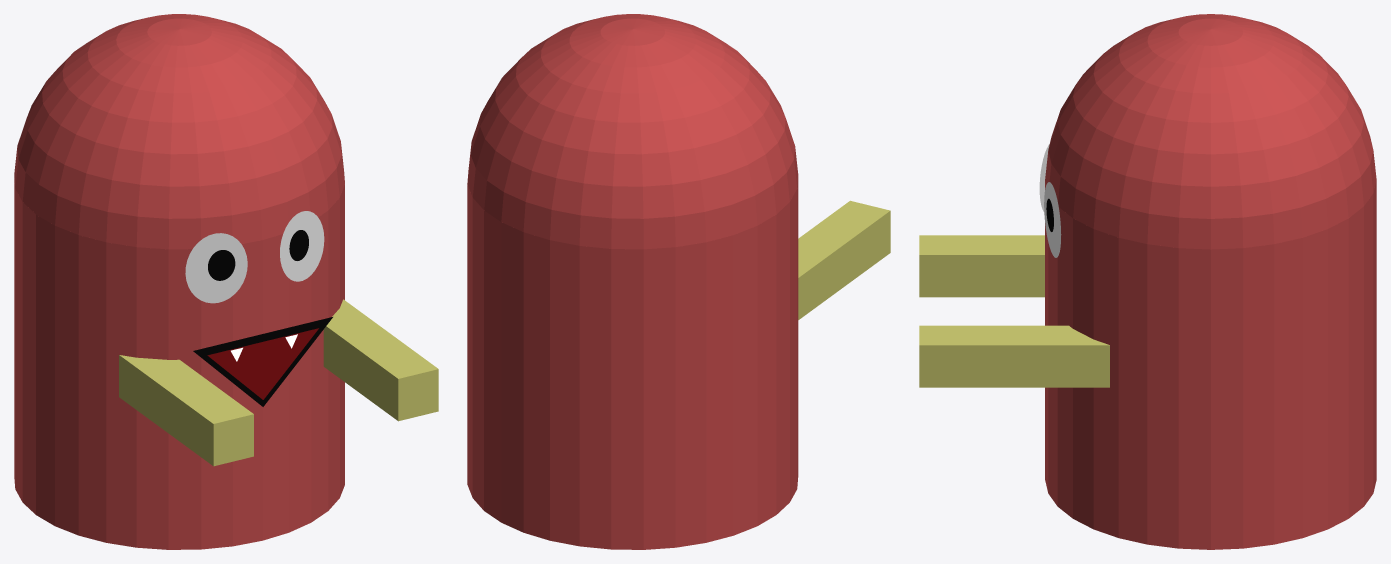
The model's file is NewEnemy1.fbx.
3 renders of one model, left to right at view 1: azimuth 30°, elevation 25°; view 2: azimuth 150°, elevation 25°; view 3: azimuth 270°, elevation 25°, orthographic.
Parts seen in each view (by area): view 1: Sphere, Cube, Circle.001, Plane.003; view 2: Sphere, Cube; view 3: Sphere, Cube, Circle.001.
Boxes of the visible parts, bbox=[...] form: Sphere: bbox=[14, 14, 344, 549]; Cube: bbox=[119, 299, 438, 466]; Circle.001: bbox=[185, 211, 324, 303]; Plane.003: bbox=[193, 317, 332, 406]; Sphere: bbox=[467, 14, 798, 549]; Cube: bbox=[798, 200, 890, 319]; Sphere: bbox=[1045, 14, 1376, 549]; Cube: bbox=[919, 235, 1109, 387]; Circle.001: bbox=[1039, 144, 1061, 257].
Bounding box in the file's own units: 200 × 300 × 276.
